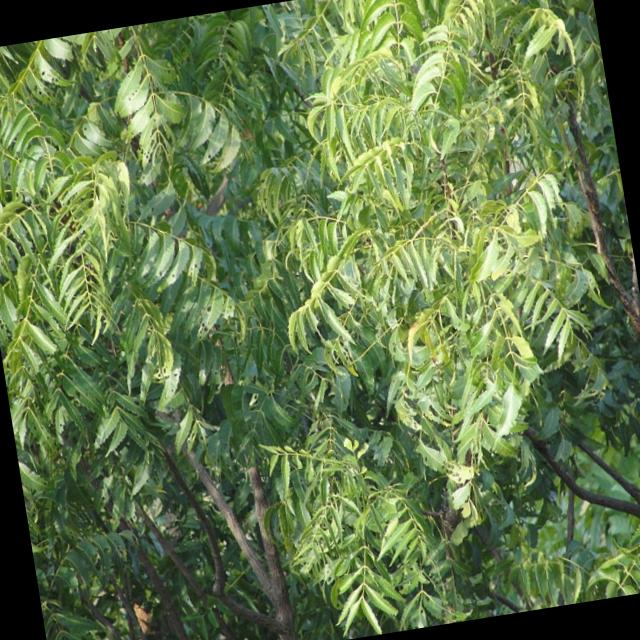Medicinal-Neem: (246, 0, 633, 529), (0, 4, 333, 473), (273, 399, 564, 640)
